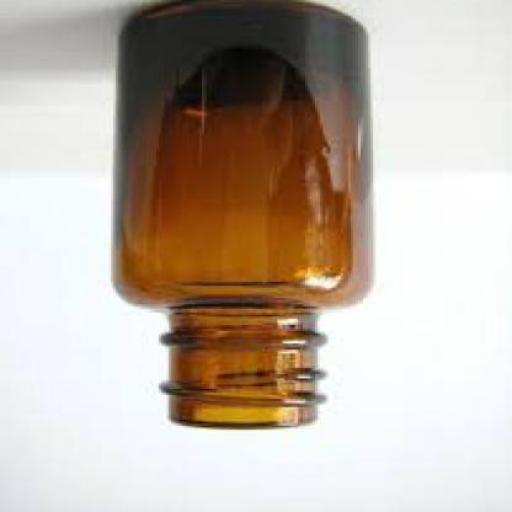glass: (111, 2, 370, 428)
